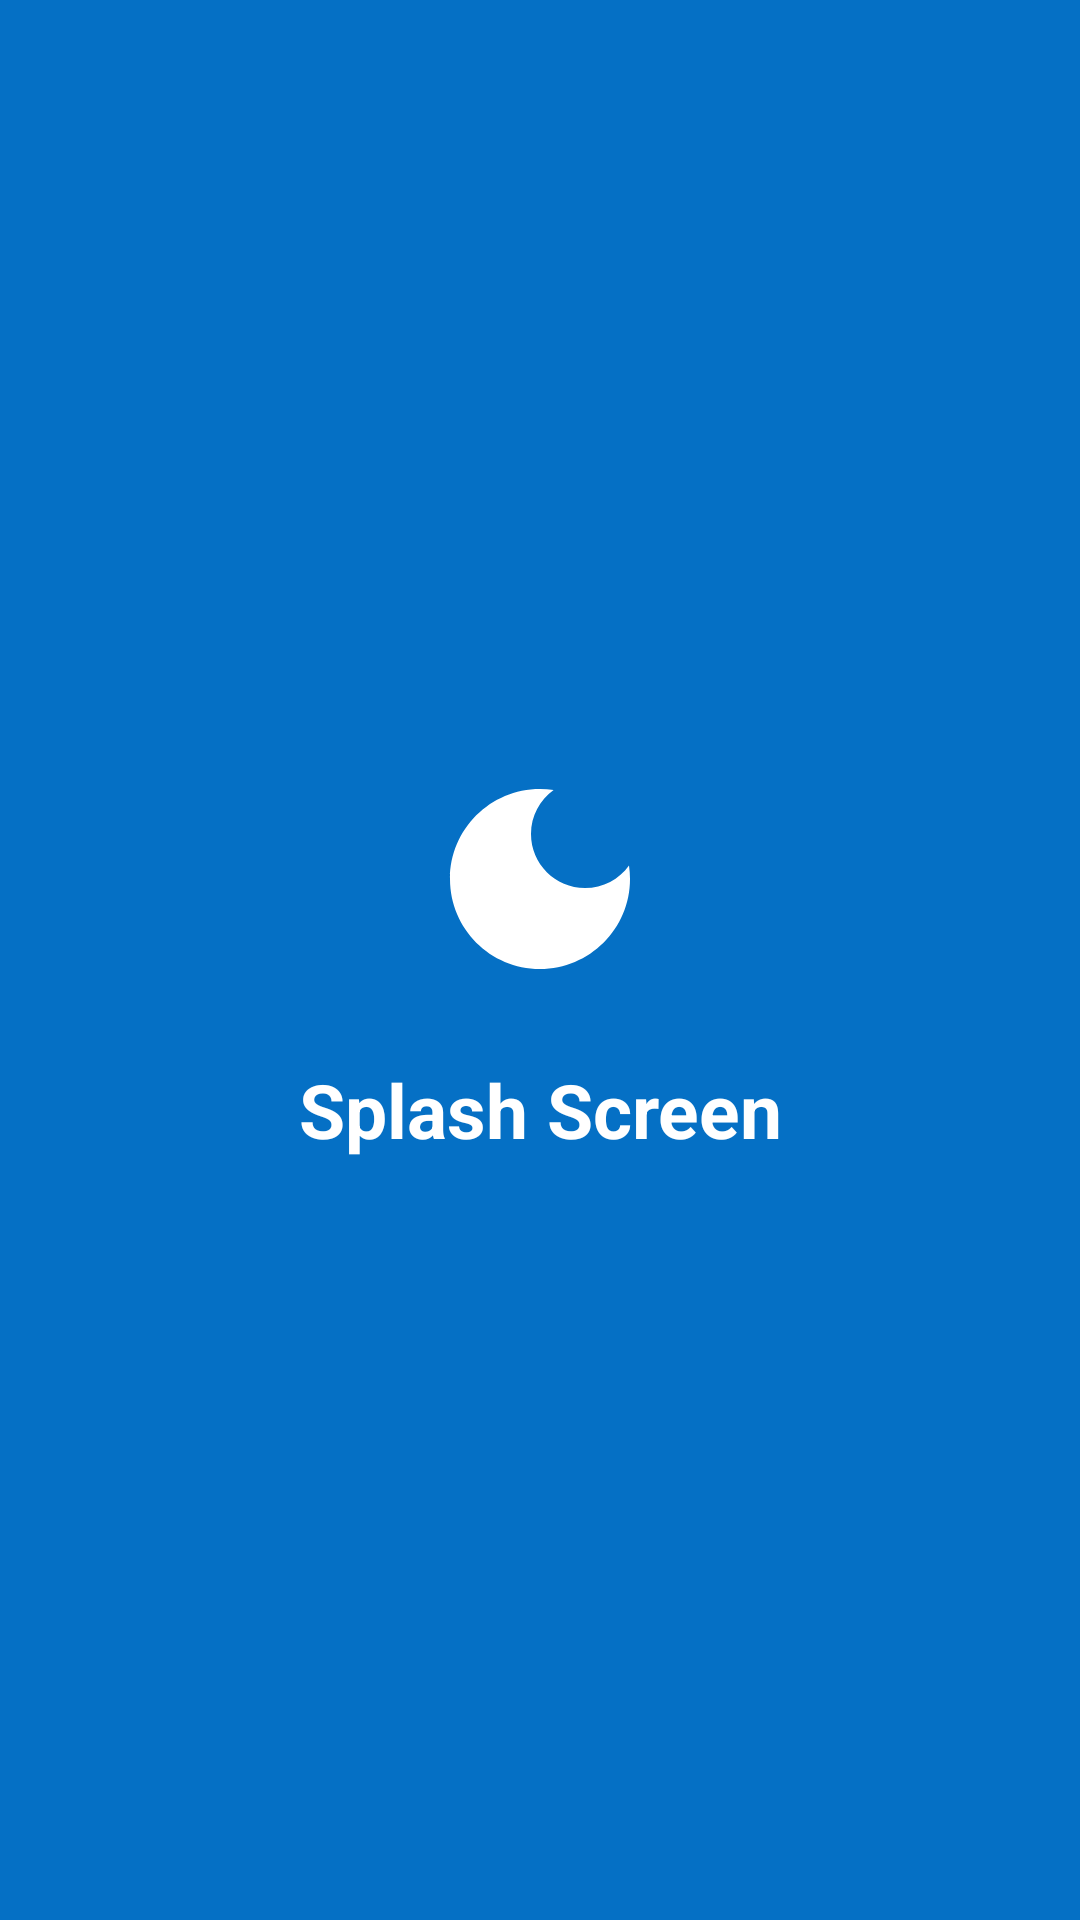

Screen size 1080x1920. Icon name, then its box in pixels as (x1, y1, x2, y2):
mode: (450, 789, 630, 969)
